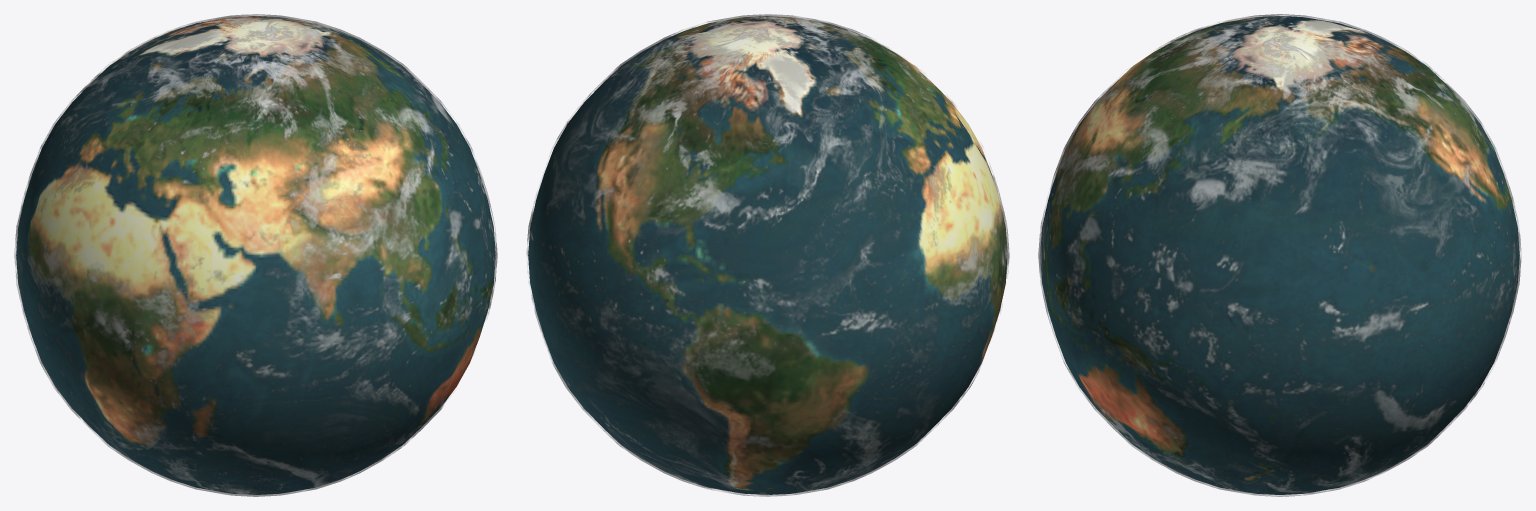
The model's file is earth.glb.
3 views of the same model, side by side, from view 1: azimuth 30°, elevation 25°; view 2: azimuth 150°, elevation 25°; view 3: azimuth 270°, elevation 25° (orthographic).
Parts seen in each view (by area): view 1: Earth, Clouds; view 2: Earth, Clouds; view 3: Earth, Clouds.
Boxes of the visible parts, <box> form: Earth: <box>16,16,495,494</box>; Clouds: <box>14,14,497,496</box>; Earth: <box>528,16,1007,494</box>; Clouds: <box>526,14,1009,496</box>; Earth: <box>1040,16,1519,494</box>; Clouds: <box>1038,14,1521,496</box>.
Size of the model in its own units: 12.9 by 12.9 by 12.9.
2 materials, 2 textured.
